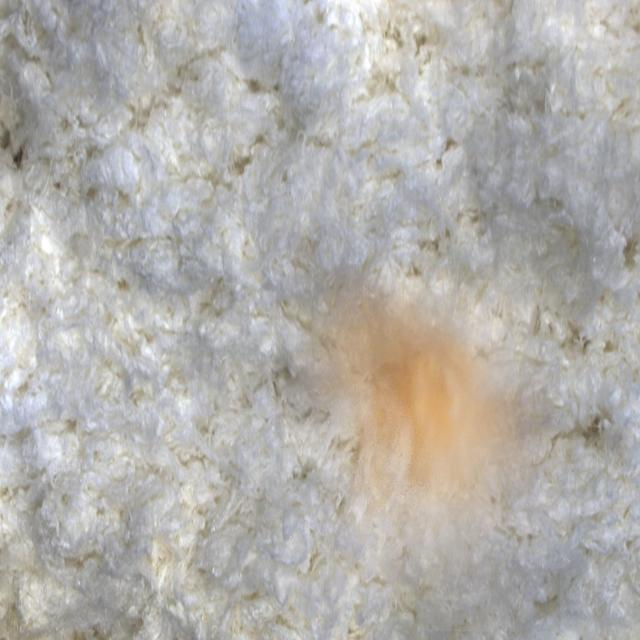dust: (276, 265, 561, 631)
